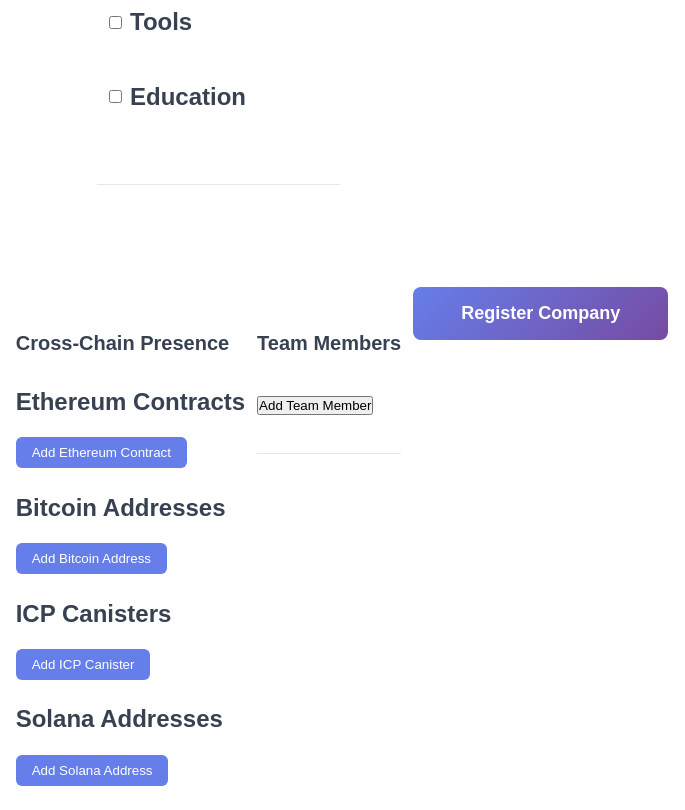
Scenario: CompanyRegistrationForm › Form Interactions › should remove team members
(page scrolled)
Click the button "Add Team Member" at point(315, 406), box [257,396,374,415]
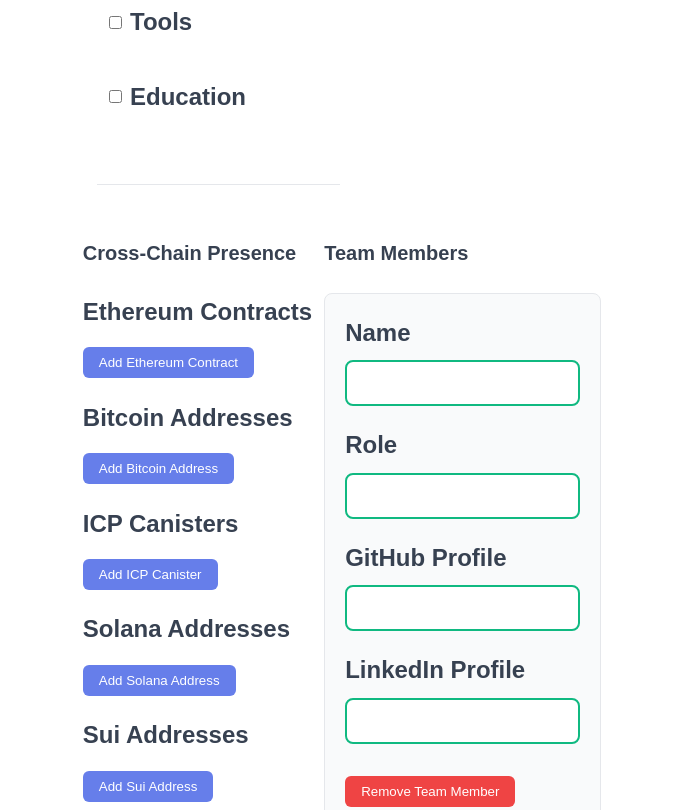
Click the button "Remove Team Member" at point(430, 791), box [345,776,516,807]
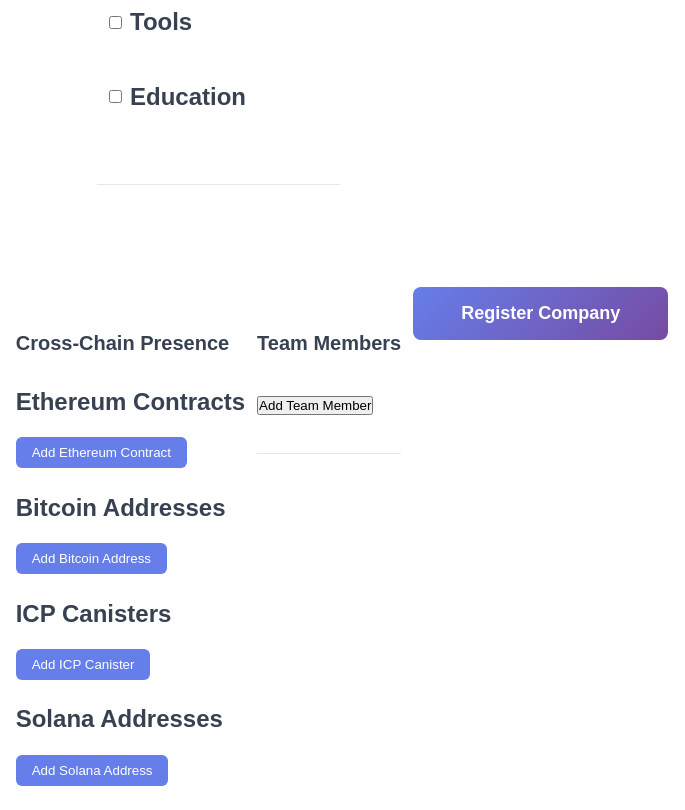
Expected: the field labelled "Name" is not shown
Result: the button "Remove Team Member" is gone
